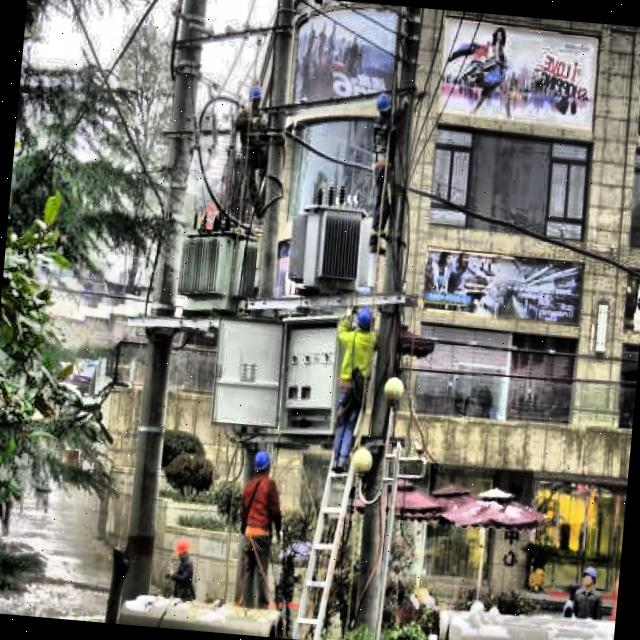helmet: (349, 304, 375, 340), (252, 445, 277, 481), (372, 82, 394, 121), (246, 80, 268, 116), (172, 536, 196, 565), (579, 564, 598, 594)
